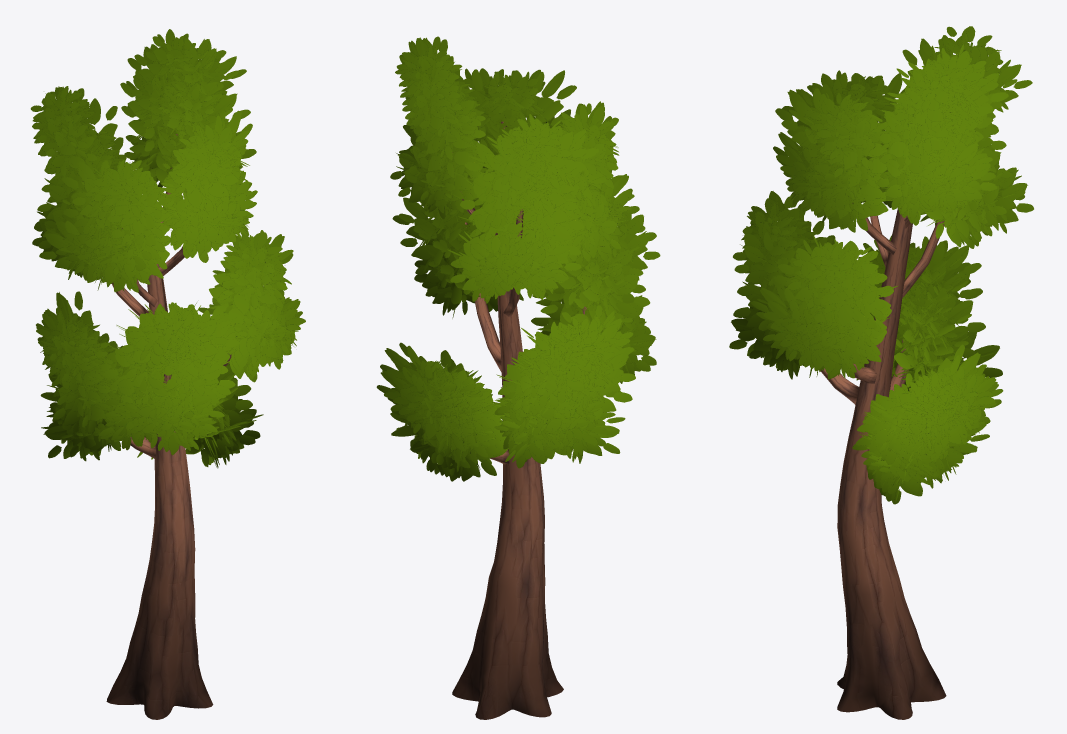
The picture shows the model from 3 angles, left to right: view 1: azimuth 30°, elevation 25°; view 2: azimuth 150°, elevation 25°; view 3: azimuth 270°, elevation 25°; orthographic projection. The views are drawn at different scales.
Visible parts, largest first — view 1: CommonTree_3; view 2: CommonTree_3; view 3: CommonTree_3.
Boxes of the visible parts, box(x1,y1,x2,y2) form: CommonTree_3: box(30, 29, 305, 719); CommonTree_3: box(376, 36, 660, 719); CommonTree_3: box(729, 26, 1033, 719).
Size of the model in its own units: 4.06 by 9.43 by 4.24.
Materials: 2 (2 with a texture image).
